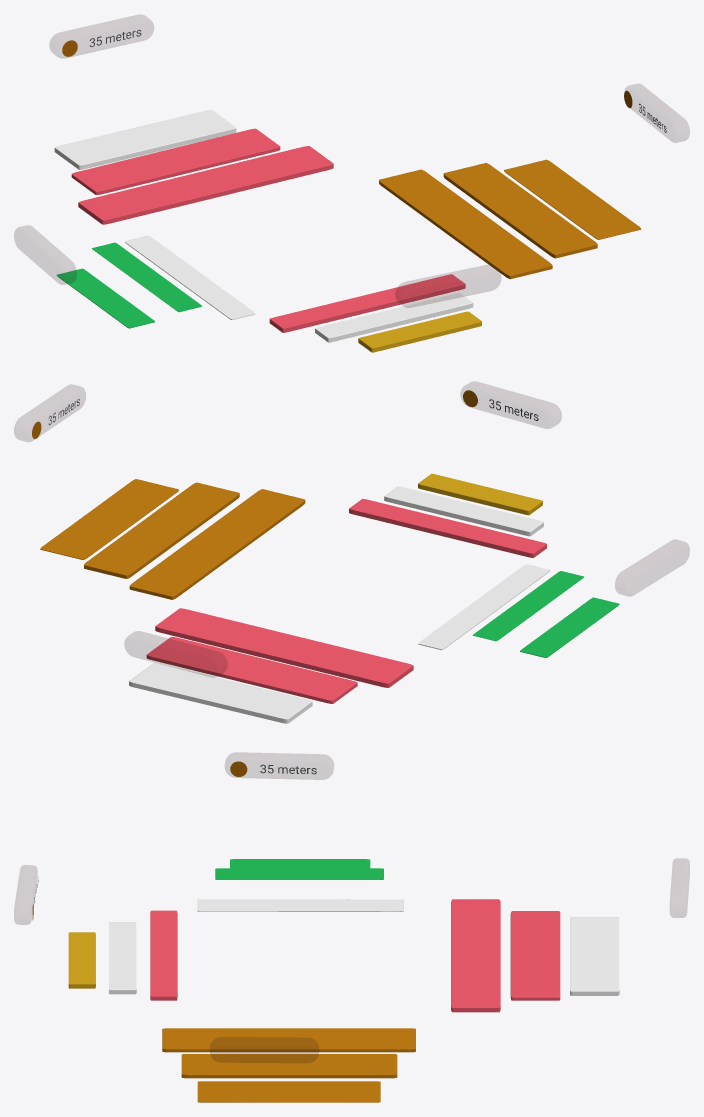
The model's file is jump_domi7.gltf.
3 views of the same model, one above another, from view 1: azimuth 30°, elevation 25°; view 2: azimuth 150°, elevation 25°; view 3: azimuth 270°, elevation 25° (orthographic). The views are drawn at different scales.
Parts seen in each view (by area): view 1: Cube top (×2), Cube right (×2), Cube bottom (×3), Rectangle (×4), Cube top center, Cube left (×3), Cube right center; view 2: Cube top (×2), Cube right (×2), Rectangle (×4), Cube bottom (×3), Cube top center, Cube left (×3), Cube right center; view 3: Cube right (×2), Cube top (×2), Rectangle (×4), Cube right center, Cube bottom (×3), Cube left (×3), Cube top center.
Part boxes in pixels (x1,y1,x2,y2): Cube top (×2): [54, 110, 280, 194]; Cube right (×2): [443, 159, 641, 258]; Cube bottom (×3): [269, 274, 481, 352]; Rectangle (×4): [14, 15, 689, 307]; Cube top center: [78, 146, 333, 224]; Cube left (×3): [56, 235, 255, 328]; Cube right center: [379, 169, 552, 279]; Cube top (×2): [129, 636, 357, 723]; Cube right (×2): [40, 479, 239, 578]; Rectangle (×4): [14, 382, 689, 676]; Cube bottom (×3): [349, 473, 546, 557]; Cube top center: [155, 608, 413, 687]; Cube left (×3): [418, 564, 619, 657]; Cube right center: [129, 489, 305, 599]; Cube right (×2): [181, 1054, 397, 1102]; Cube top (×2): [510, 911, 619, 1000]; Rectangle (×4): [14, 753, 689, 1062]; Cube right center: [162, 1028, 415, 1052]; Cube bottom (×3): [68, 910, 177, 1000]; Cube left (×3): [197, 859, 403, 911]; Cube top center: [451, 899, 500, 1012].
Bounding box in the file's own units: 16.78 × 2.36 × 16.33.
